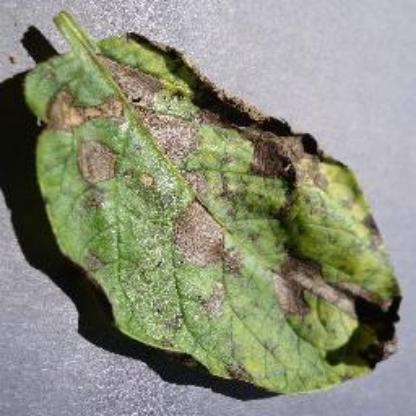Early-Blight: (13, 17, 407, 396)
